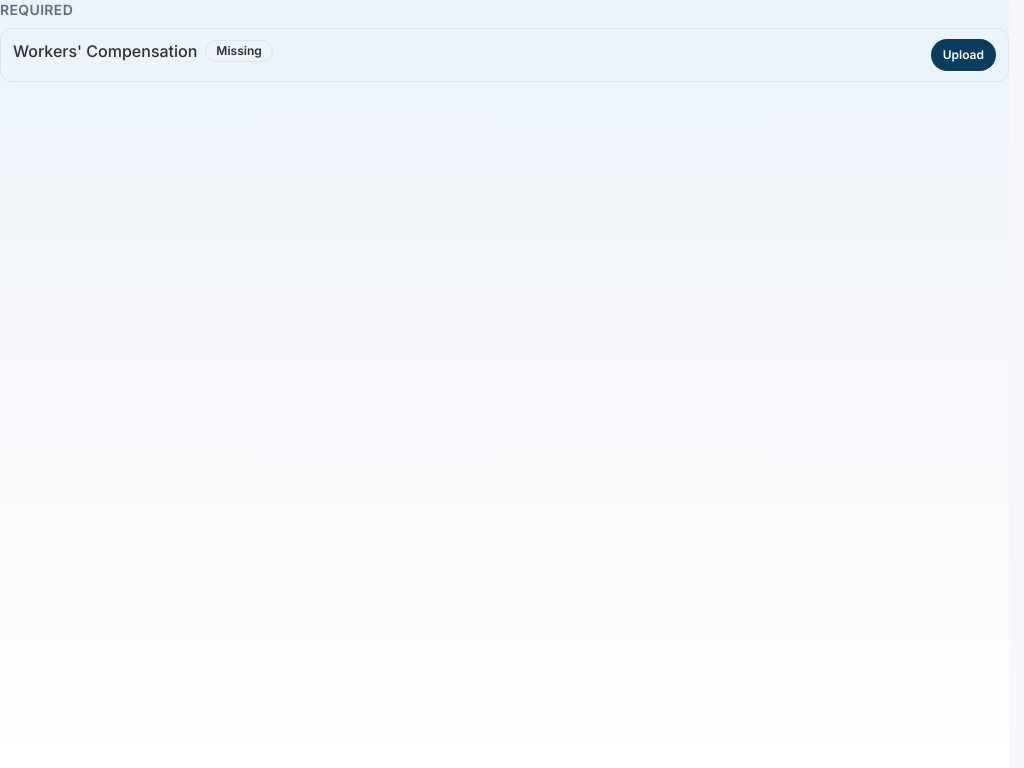
Test case: RequirementChecklist (subcontractor) › requires an expiration date before submitting insurance
Later steps or results of the test are not shown.
Click the button "Upload". click: (963, 55)
box: [931, 39, 996, 71]
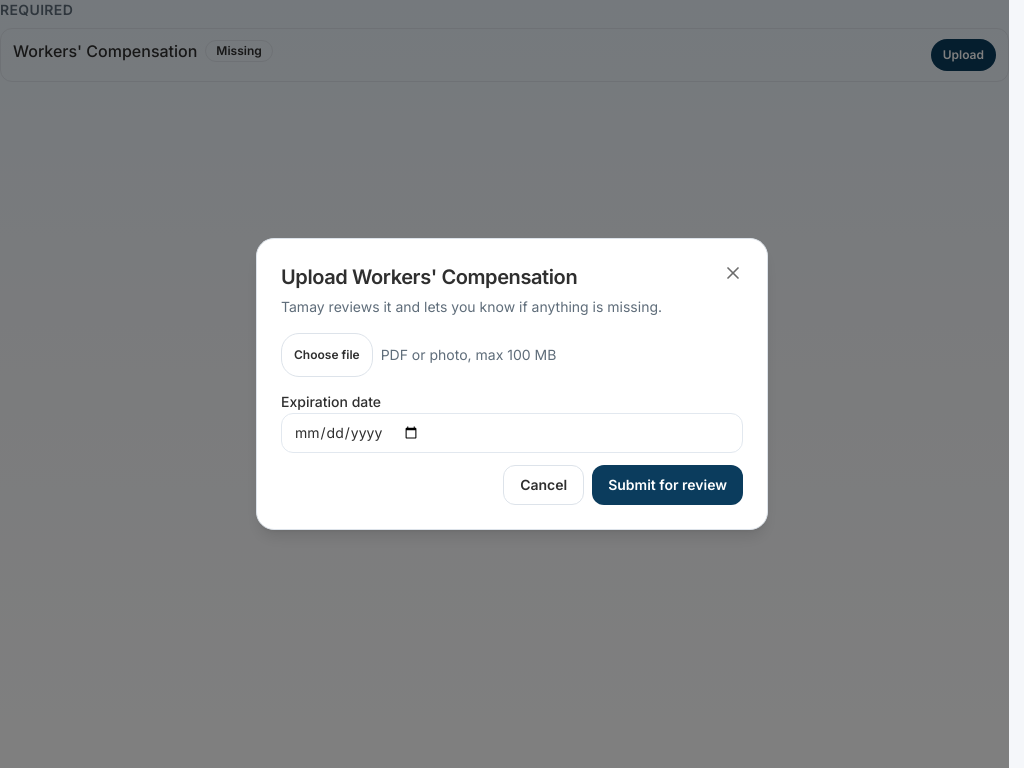
Expected: the date field labelled "Expiration date" is shown, [281, 413, 743, 453]
